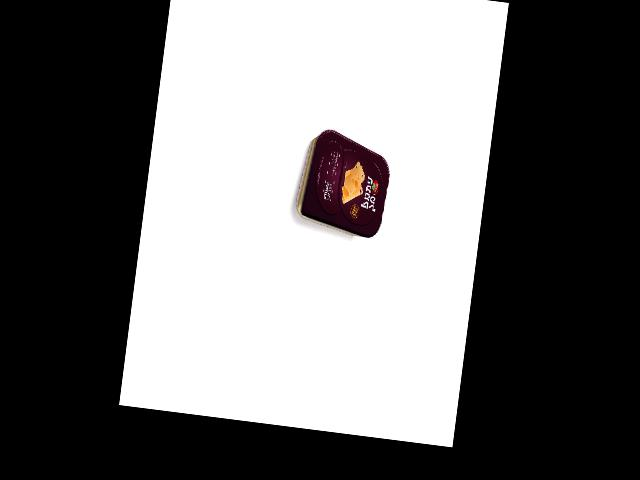cheese: (293, 126, 395, 239)
